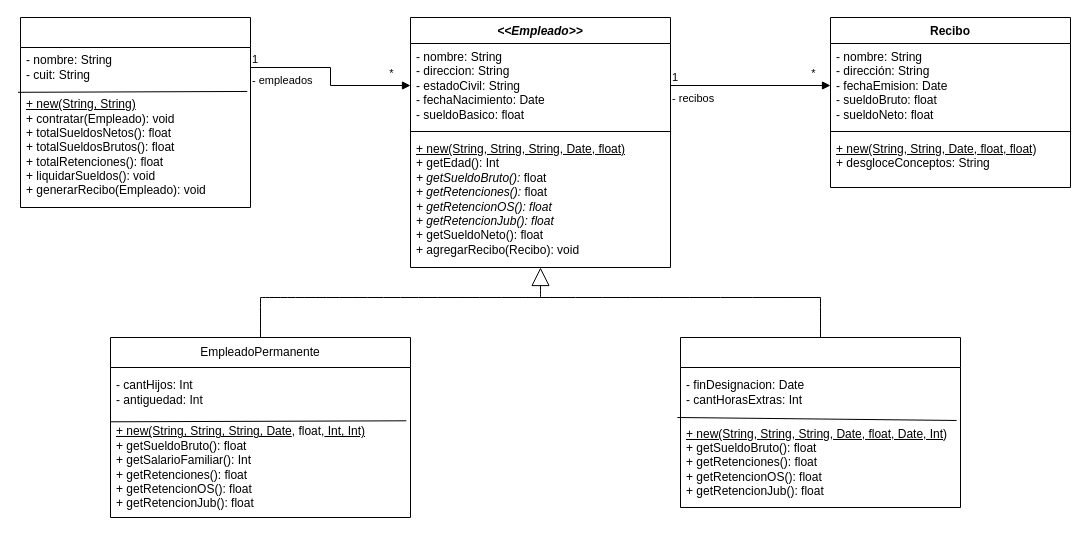
Some shapes in this 1088 by 535 pixel diagram are drawn without their labels. Here are the shapes that lost their labels. From the top down, the box of each, then its label:
(20, 16, 250, 208): Empresa
(680, 336, 960, 508): EmpleadoTemporal
